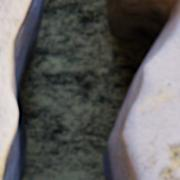broken_brick: (123, 14, 179, 179), (0, 0, 30, 179)
crack: (1, 0, 179, 179)
